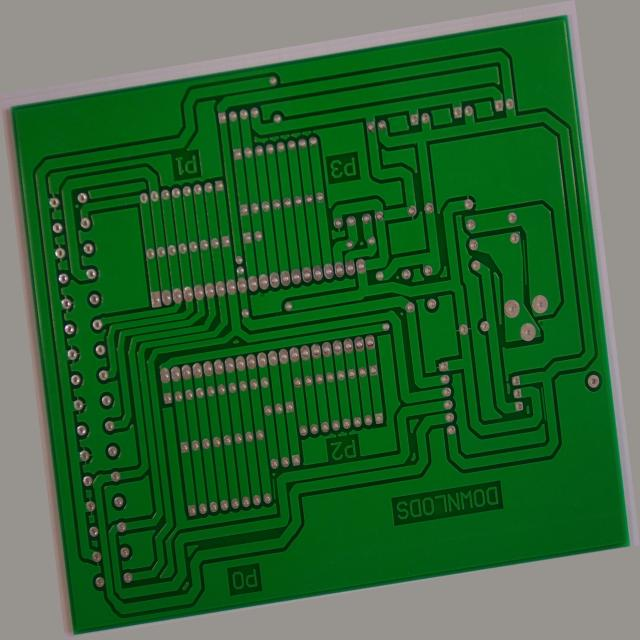spurious_copper: (546, 264, 558, 321), (549, 437, 557, 480), (244, 492, 252, 520)
